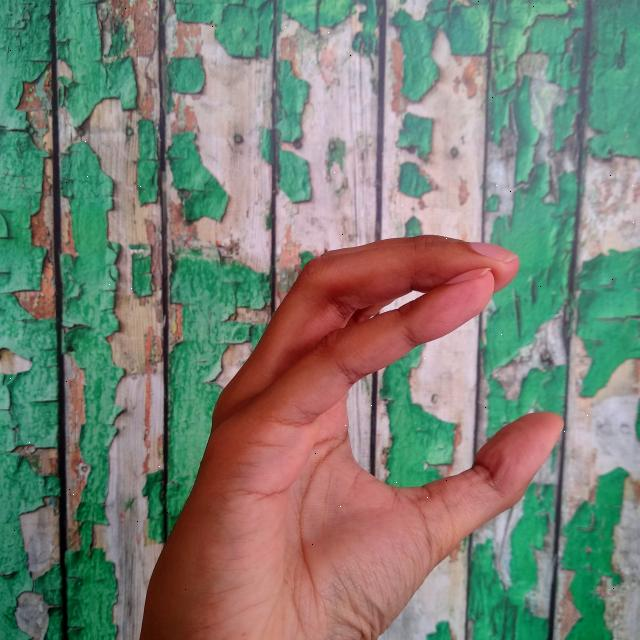C: (141, 231, 572, 640)
